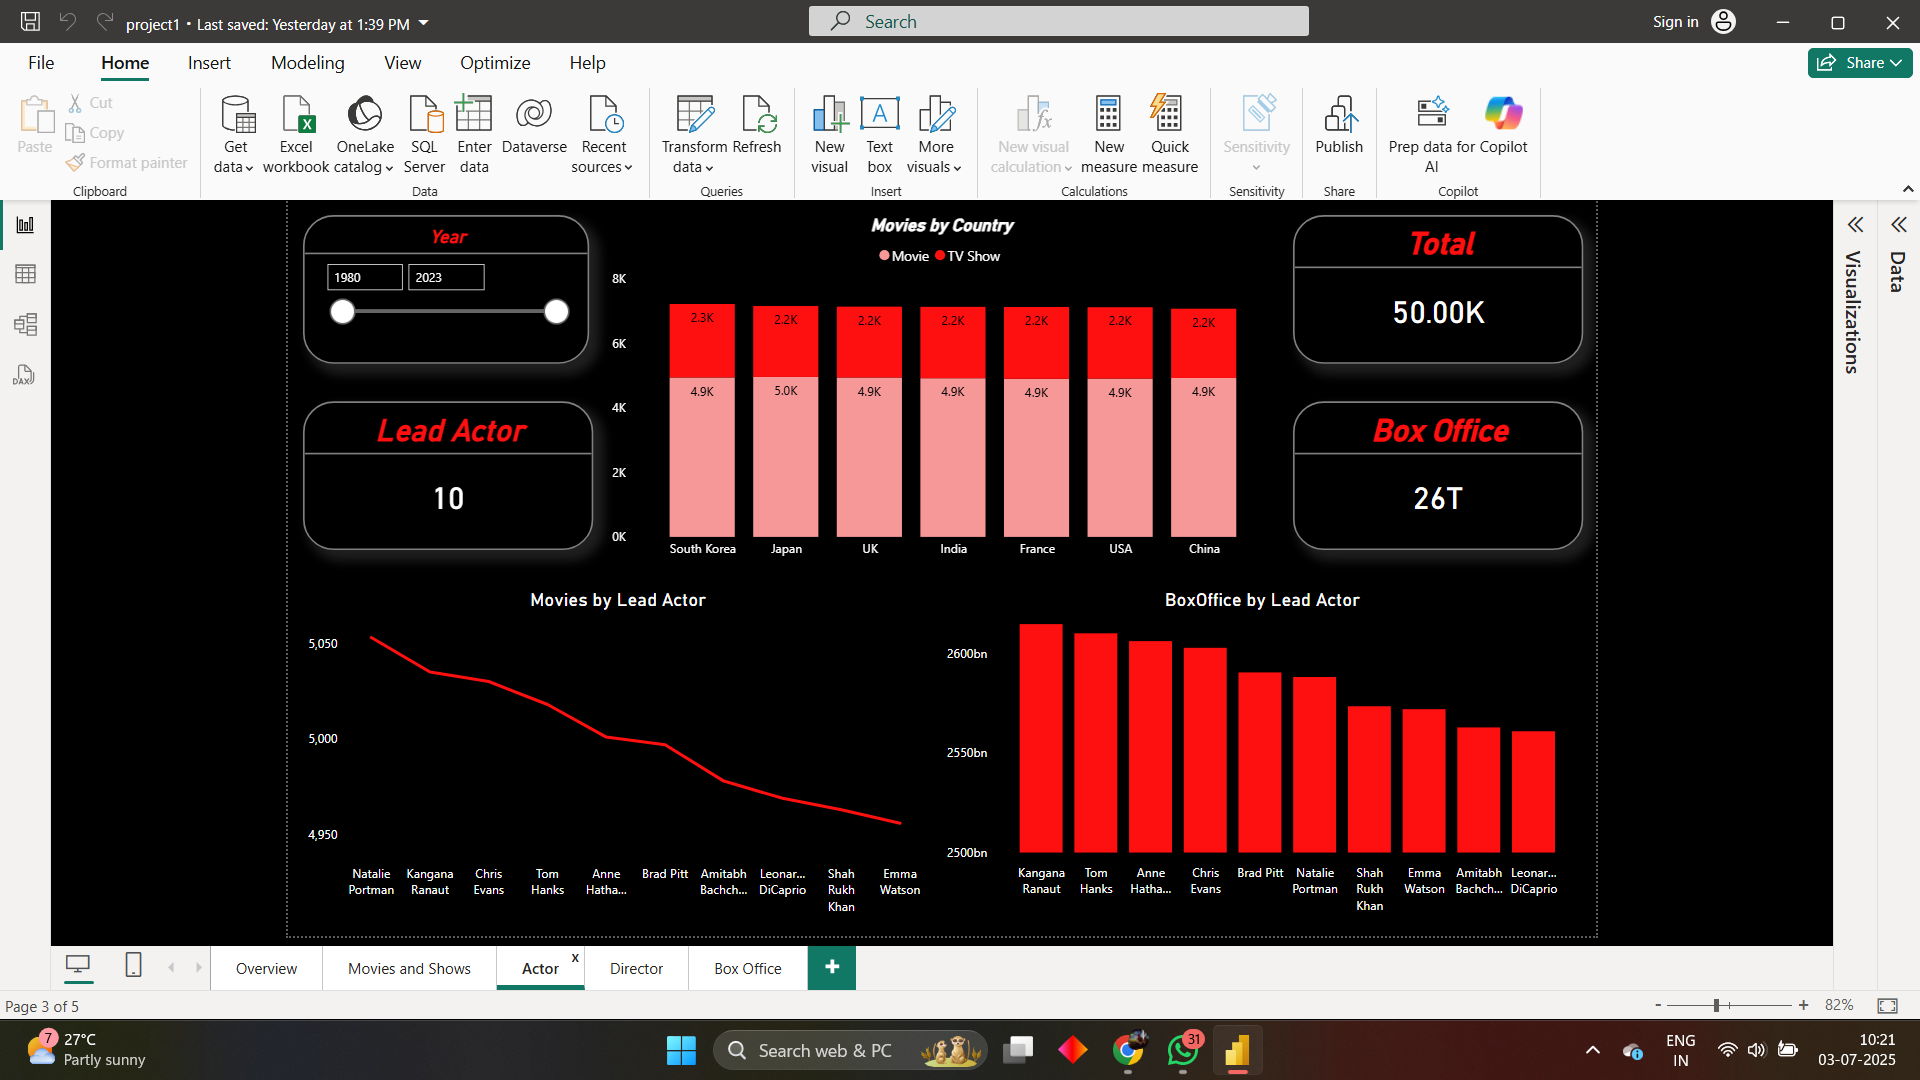

Layout of this report page (visuals, bound fields, positions):
{"tool":"powerbi","page":{"name":"Actor","canvas":[1280,720],"ordinal":2},"visuals":[{"type":"slicer","title":"Year","fields":{"Values":["movie.Year"]},"box":[17.1,15.9,280,145.5],"z":0},{"type":"card","title":"Total","fields":{"Values":["movie.Title"]},"box":[983.2,14.7,283.7,145.5],"z":1000},{"type":"columnChart","title":"Movies by Country","fields":{"Category":["movie.Country"],"Y":["movie.Title"],"Series":["movie.Movie or tv show"]},"box":[311.8,14.7,655.4,344.8],"z":2000},{"type":"lineChart","title":"Movies by Lead Actor","fields":{"Category":["movie.Lead_Actor"],"Y":["movie.Title"]},"box":[14.7,380.3,616.3,326.5],"z":3000},{"type":"card","title":"Lead Actor","fields":{"Values":["movie.Lead_Actor"]},"box":[14.7,196.9,283.7,145.5],"z":4000},{"type":"columnChart","title":"BoxOffice by Lead Actor","fields":{"Category":["movie.Lead_Actor"],"Y":["movie.BoxOffice_USD"]},"box":[639.5,380.3,627.3,325.3],"z":5000},{"type":"card","title":"Box Office","fields":{"Values":["movie.BoxOffice_USD"]},"box":[983.2,196.9,283.7,145.5],"z":6000}]}

Visuals, with their boxes on the page's 1280x720 design canvas (x1, y1, x2, y2). These are canvas units, not pixel positions in the 1920x1080 screenshot, which may show the page scaled, cropped or inside an application window:
"Year" slicer: [x1=17, y1=16, x2=297, y2=161]
"Total" card: [x1=983, y1=15, x2=1267, y2=160]
"Movies by Country" columnChart: [x1=312, y1=15, x2=967, y2=360]
"Movies by Lead Actor" lineChart: [x1=15, y1=380, x2=631, y2=707]
"Lead Actor" card: [x1=15, y1=197, x2=298, y2=342]
"BoxOffice by Lead Actor" columnChart: [x1=640, y1=380, x2=1267, y2=706]
"Box Office" card: [x1=983, y1=197, x2=1267, y2=342]
